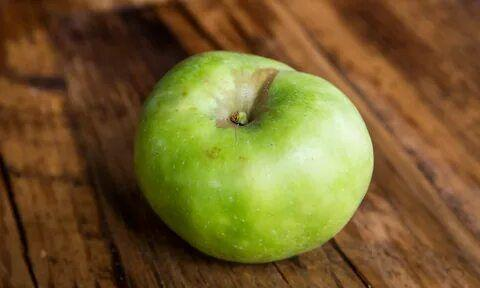Apple: (132, 50, 374, 262)
